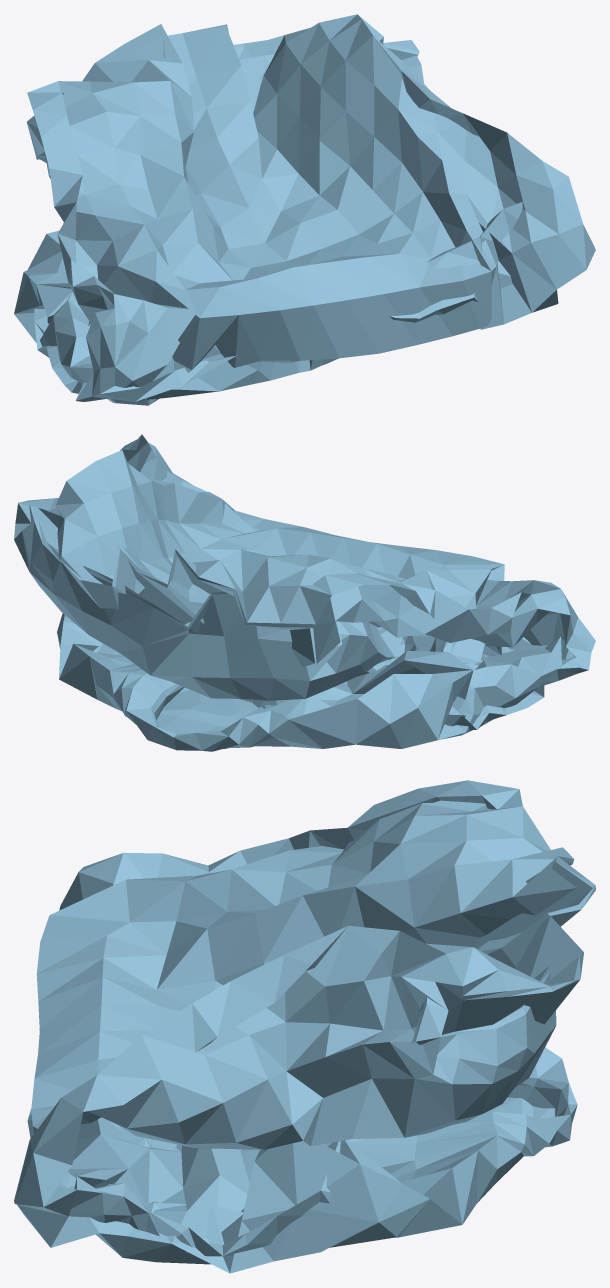
File: frame_19.glb
3 views of the same model, one above another, from view 1: azimuth 30°, elevation 25°; view 2: azimuth 150°, elevation 25°; view 3: azimuth 270°, elevation 25° (orthographic). The views are drawn at different scales.
Visible parts, largest first — view 1: frame_19.obj; view 2: frame_19.obj; view 3: frame_19.obj.
Boxes of the visible parts, x1,y1,x2,y2 form: frame_19.obj: [14, 14, 595, 405]; frame_19.obj: [14, 434, 595, 751]; frame_19.obj: [14, 780, 595, 1273].
Size of the model in its own units: 1.1 by 0.495 by 0.8274.
